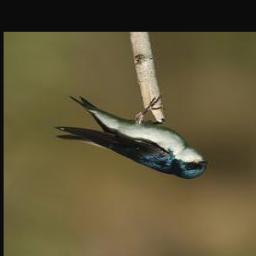Swallow: (52, 92, 211, 181)
